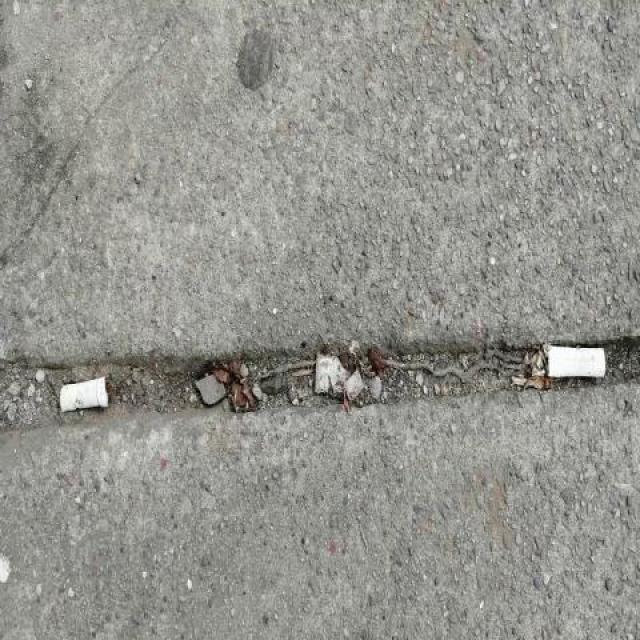non-organic waste: (543, 342, 608, 382), (58, 371, 114, 416)
